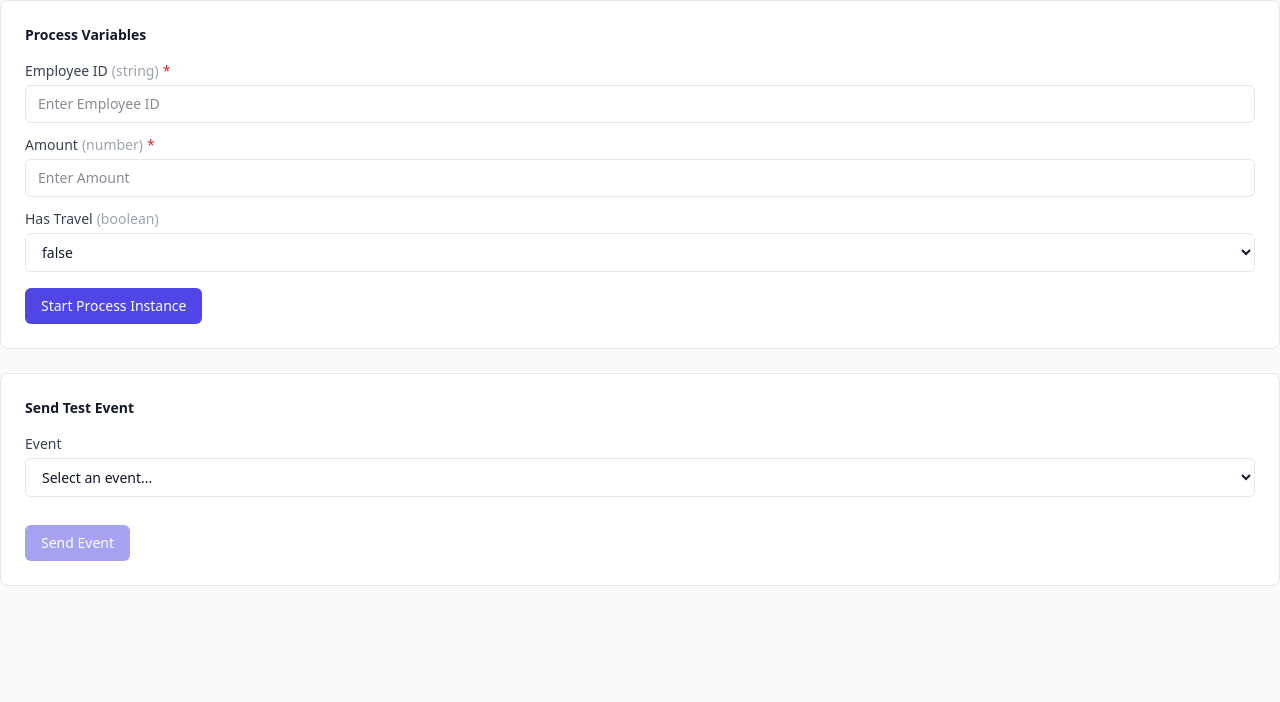
SpawnForm › fills in event parameter values and sends event
Select "Expense Submitted (expense-submitted)" in the dropdown below "Send Test Event" at point(640, 478), box top-left (25, 458), bottom-right (1255, 497)
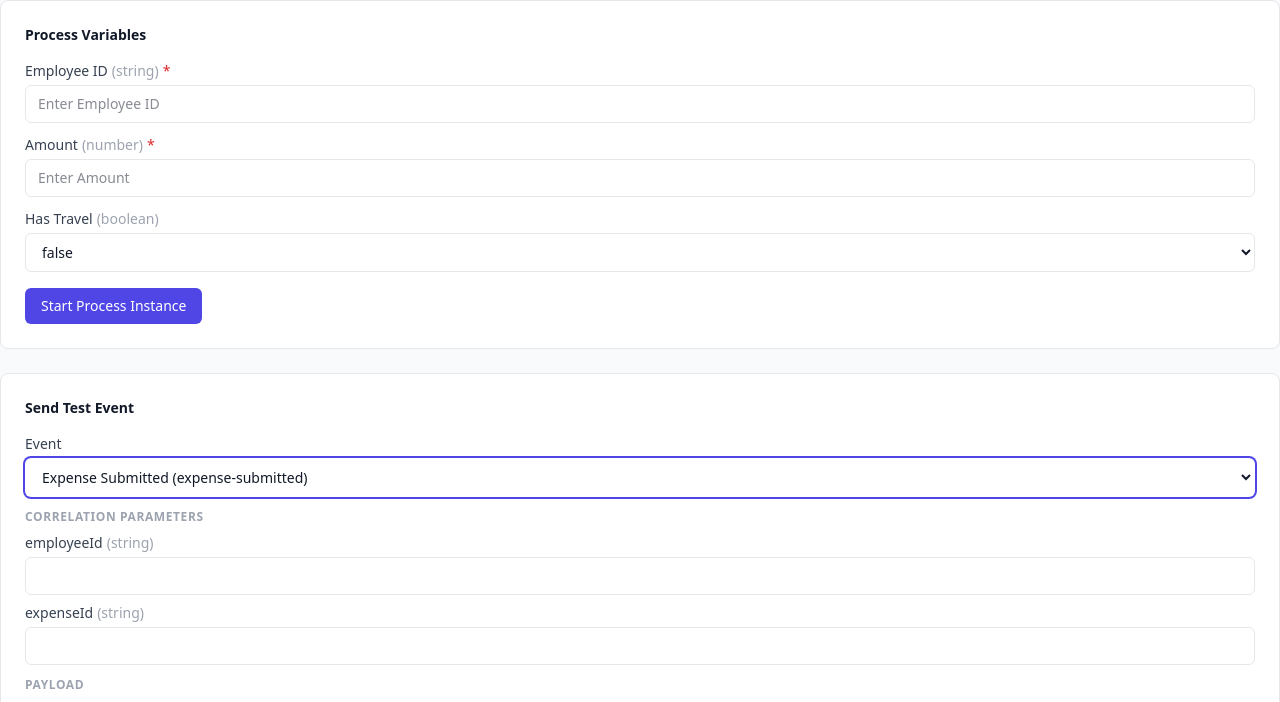
Now the text "Correlation Parameters" is shown, box top-left (25, 508), bottom-right (204, 525)
Type "emp123" into the field with placeholder "Enter Employee ID".
click(640, 104); type("emp123")  # box top-left (25, 85), bottom-right (1255, 123)
(page scrolled)
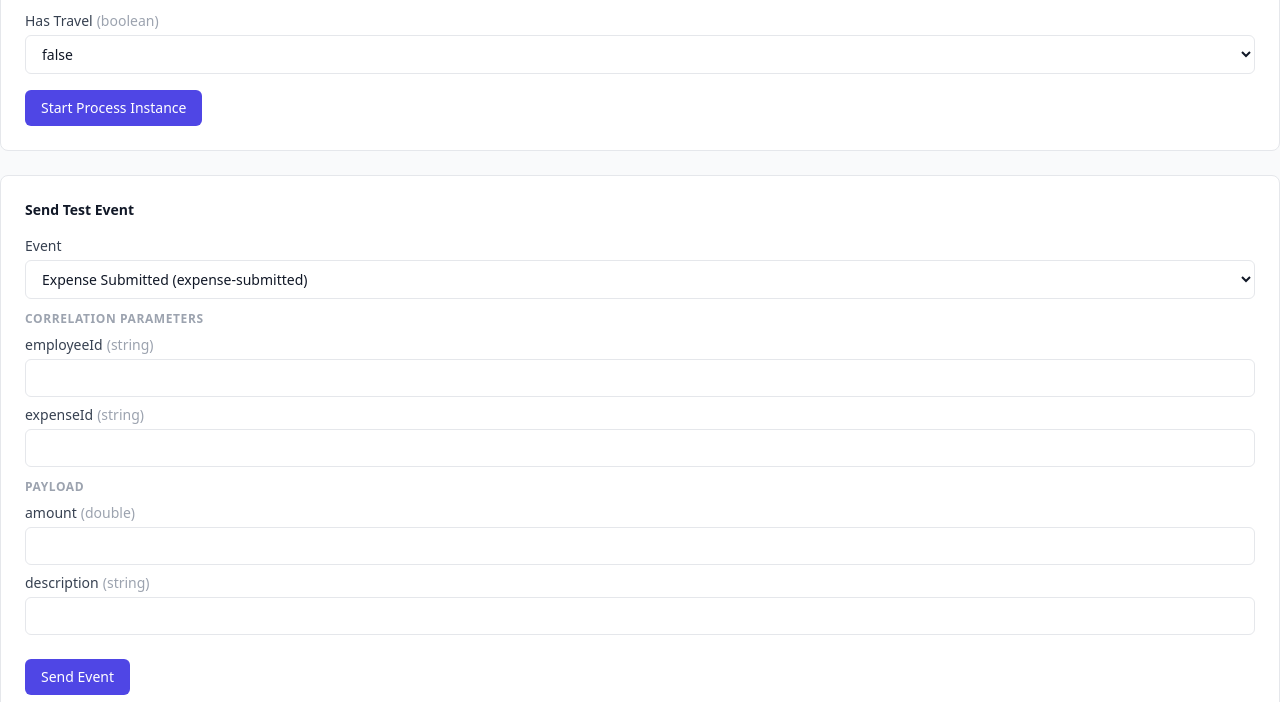
Click the button "Send Event".
click(78, 677)  # box top-left (25, 659), bottom-right (130, 695)
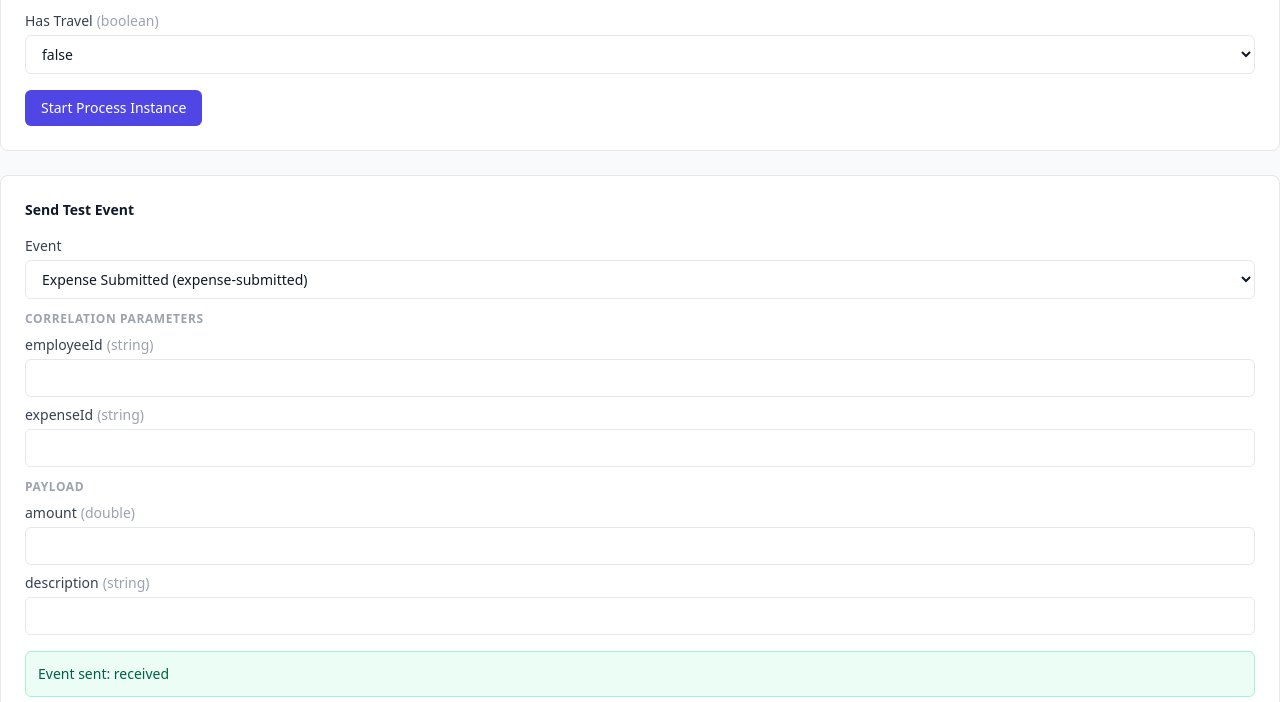
Now the text "Event sent: received" is shown, box top-left (38, 664), bottom-right (169, 683)
